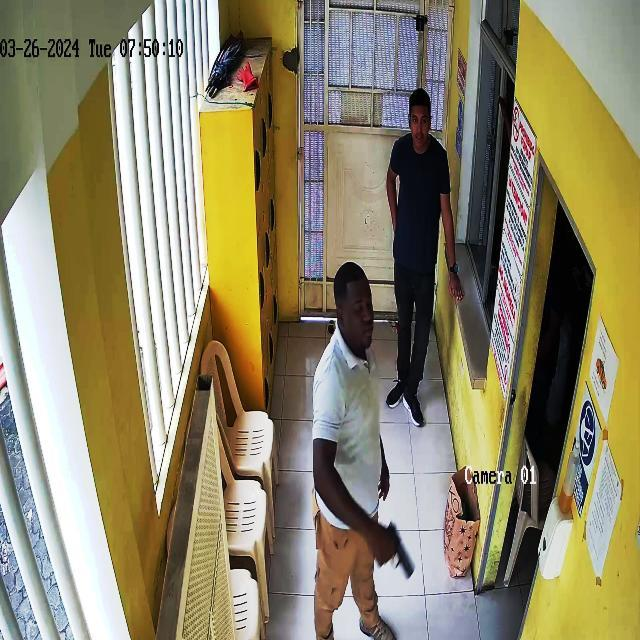Gun: (358, 513, 437, 590)
